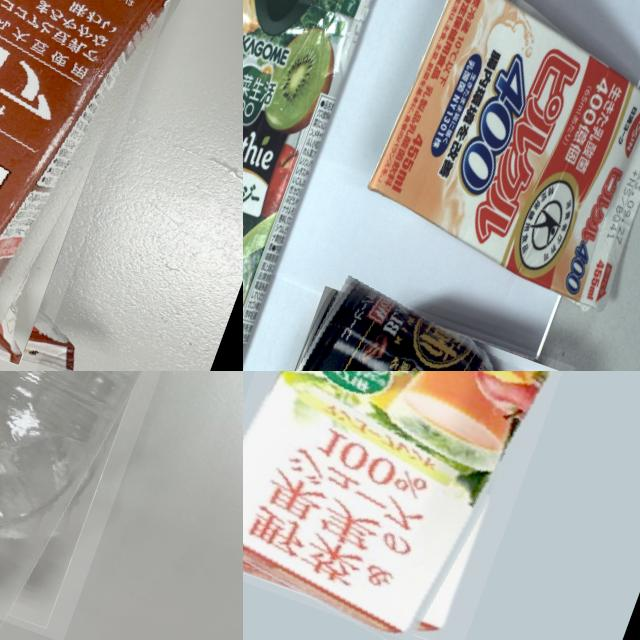Aluminium Foil: (243, 371, 610, 640), (357, 0, 640, 324), (0, 0, 204, 371), (243, 0, 406, 371)
Can: (243, 274, 575, 371)
Transparent Plastic Bottle: (0, 371, 243, 640)
